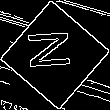N_E: (28, 33, 82, 77)
